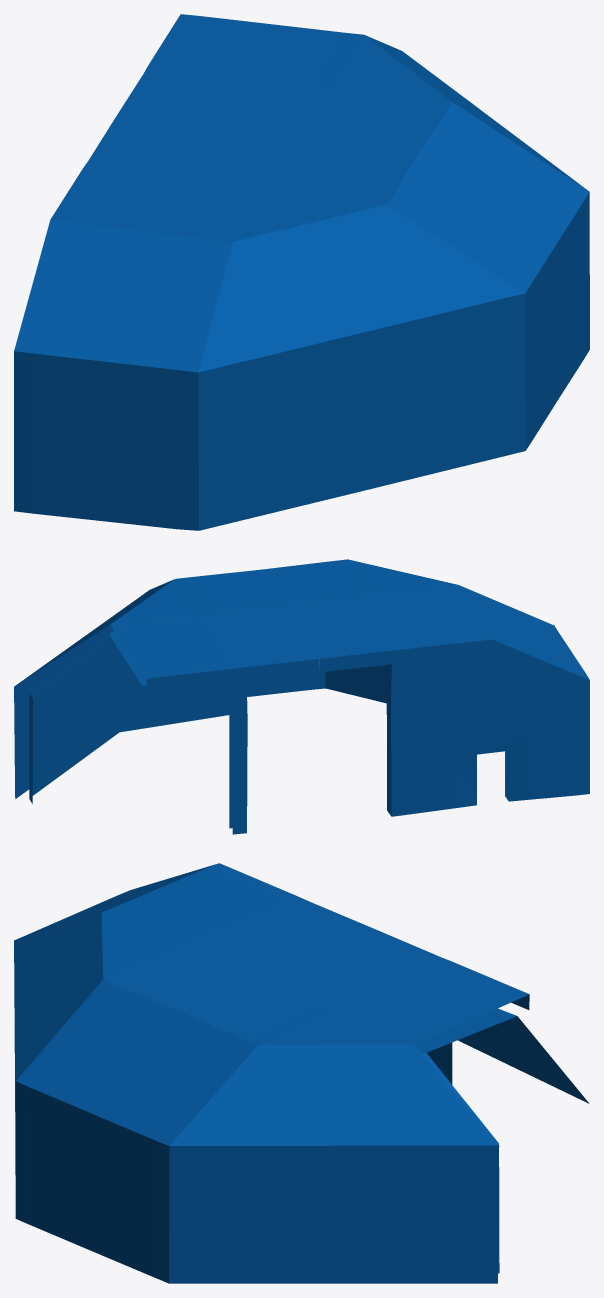
Rendered from First Floor.fbx.
3 views of the same model, one above another, from view 1: azimuth 30°, elevation 25°; view 2: azimuth 150°, elevation 25°; view 3: azimuth 270°, elevation 25° (orthographic). The views are drawn at different scales.
Parts seen in each view (by area): view 1: polySurface88; view 2: polySurface88; view 3: polySurface88.
Boxes of the visible parts, bbox=[...] form: polySurface88: bbox=[14, 14, 589, 530]; polySurface88: bbox=[14, 559, 589, 834]; polySurface88: bbox=[14, 863, 589, 1283].
Size of the model in its own units: 116 by 43.21 by 110.
